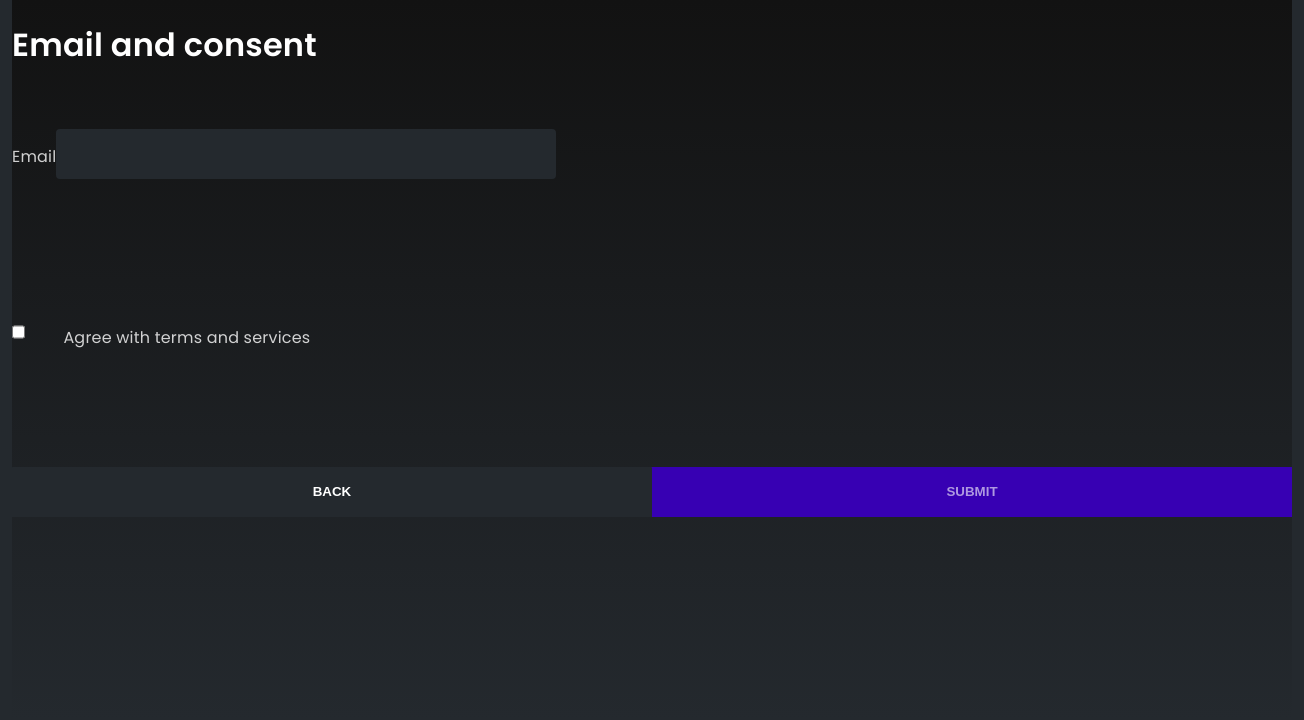
Test case: rendering › form is invalid › should display an error message when Email field is empty after being touched
In the field labelled "Email": (306, 154) [56,129,556,179], type "Test@internet.com"
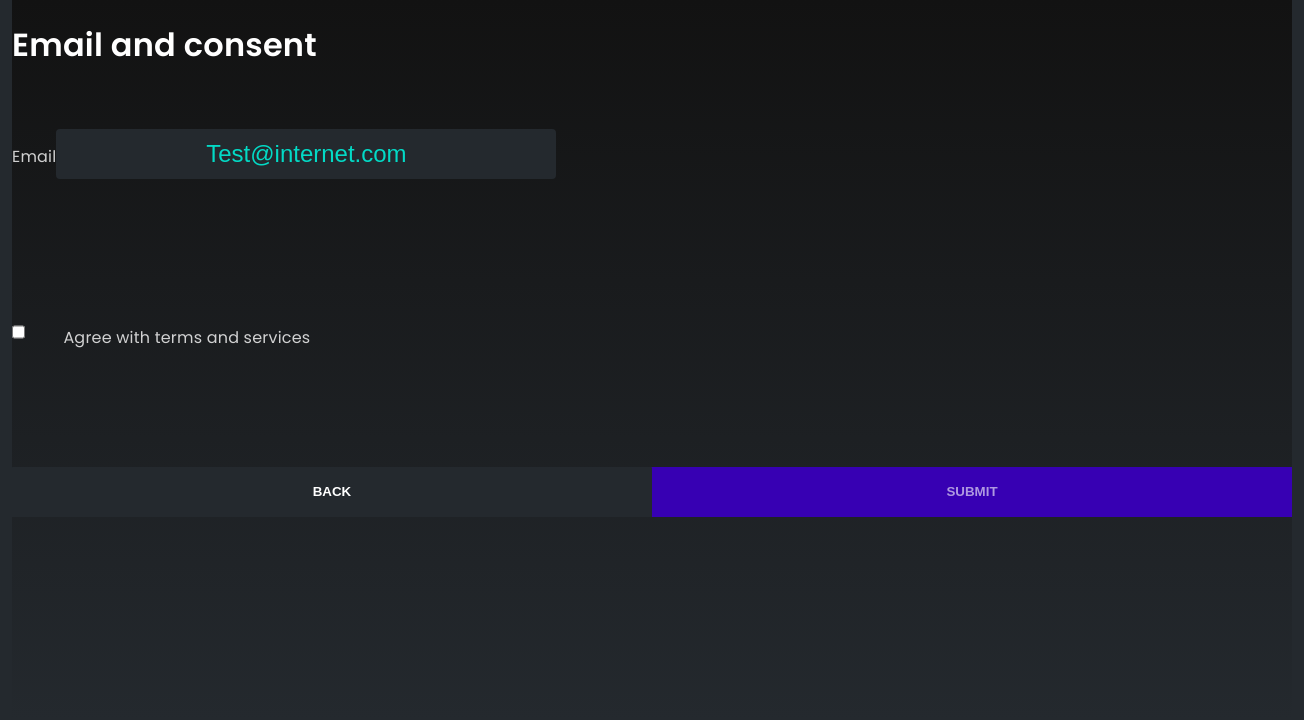
Clear the field labelled "Email": (306, 154) [56,129,556,179]
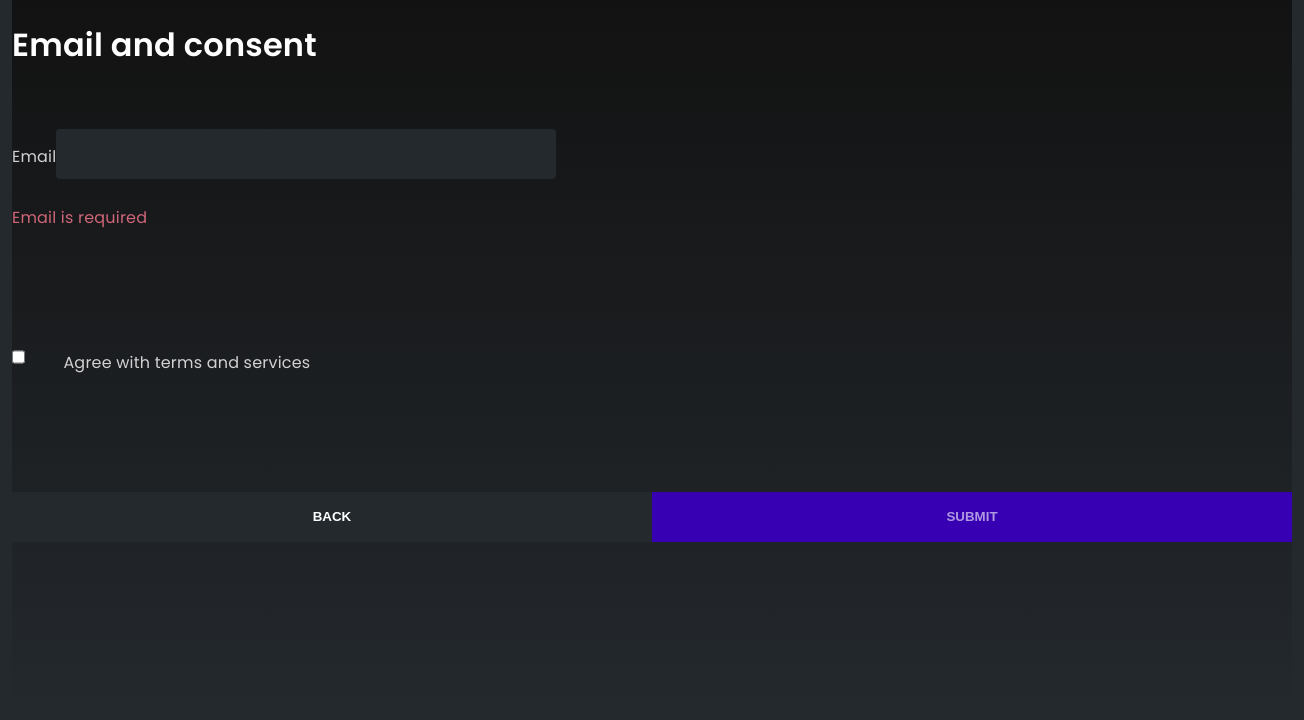
Now the message reads "Email is required", box [12,206,147,229]
